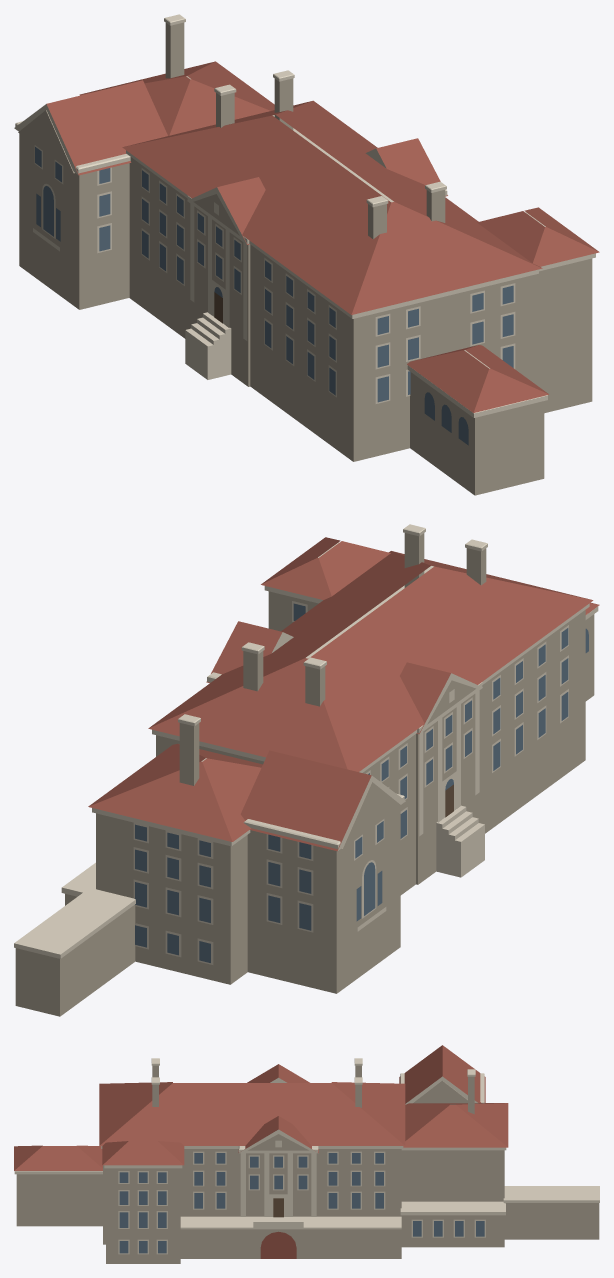
Rendered from nash-cheekwood.glb.
3 renders of one model, top to bottom at view 1: azimuth 30°, elevation 25°; view 2: azimuth 150°, elevation 25°; view 3: azimuth 270°, elevation 25°, orthographic. The views are drawn at different scales.
Parts seen in each view (by area): view 1: Cheekwood; view 2: Cheekwood; view 3: Cheekwood.
Part boxes in pixels (<box>): Cheekwood: <box>14,14,599,495</box>; Cheekwood: <box>14,524,599,1016</box>; Cheekwood: <box>14,1045,599,1263</box>.
Bounding box in the file's own units: 30.65 × 21.35 × 77.95.
